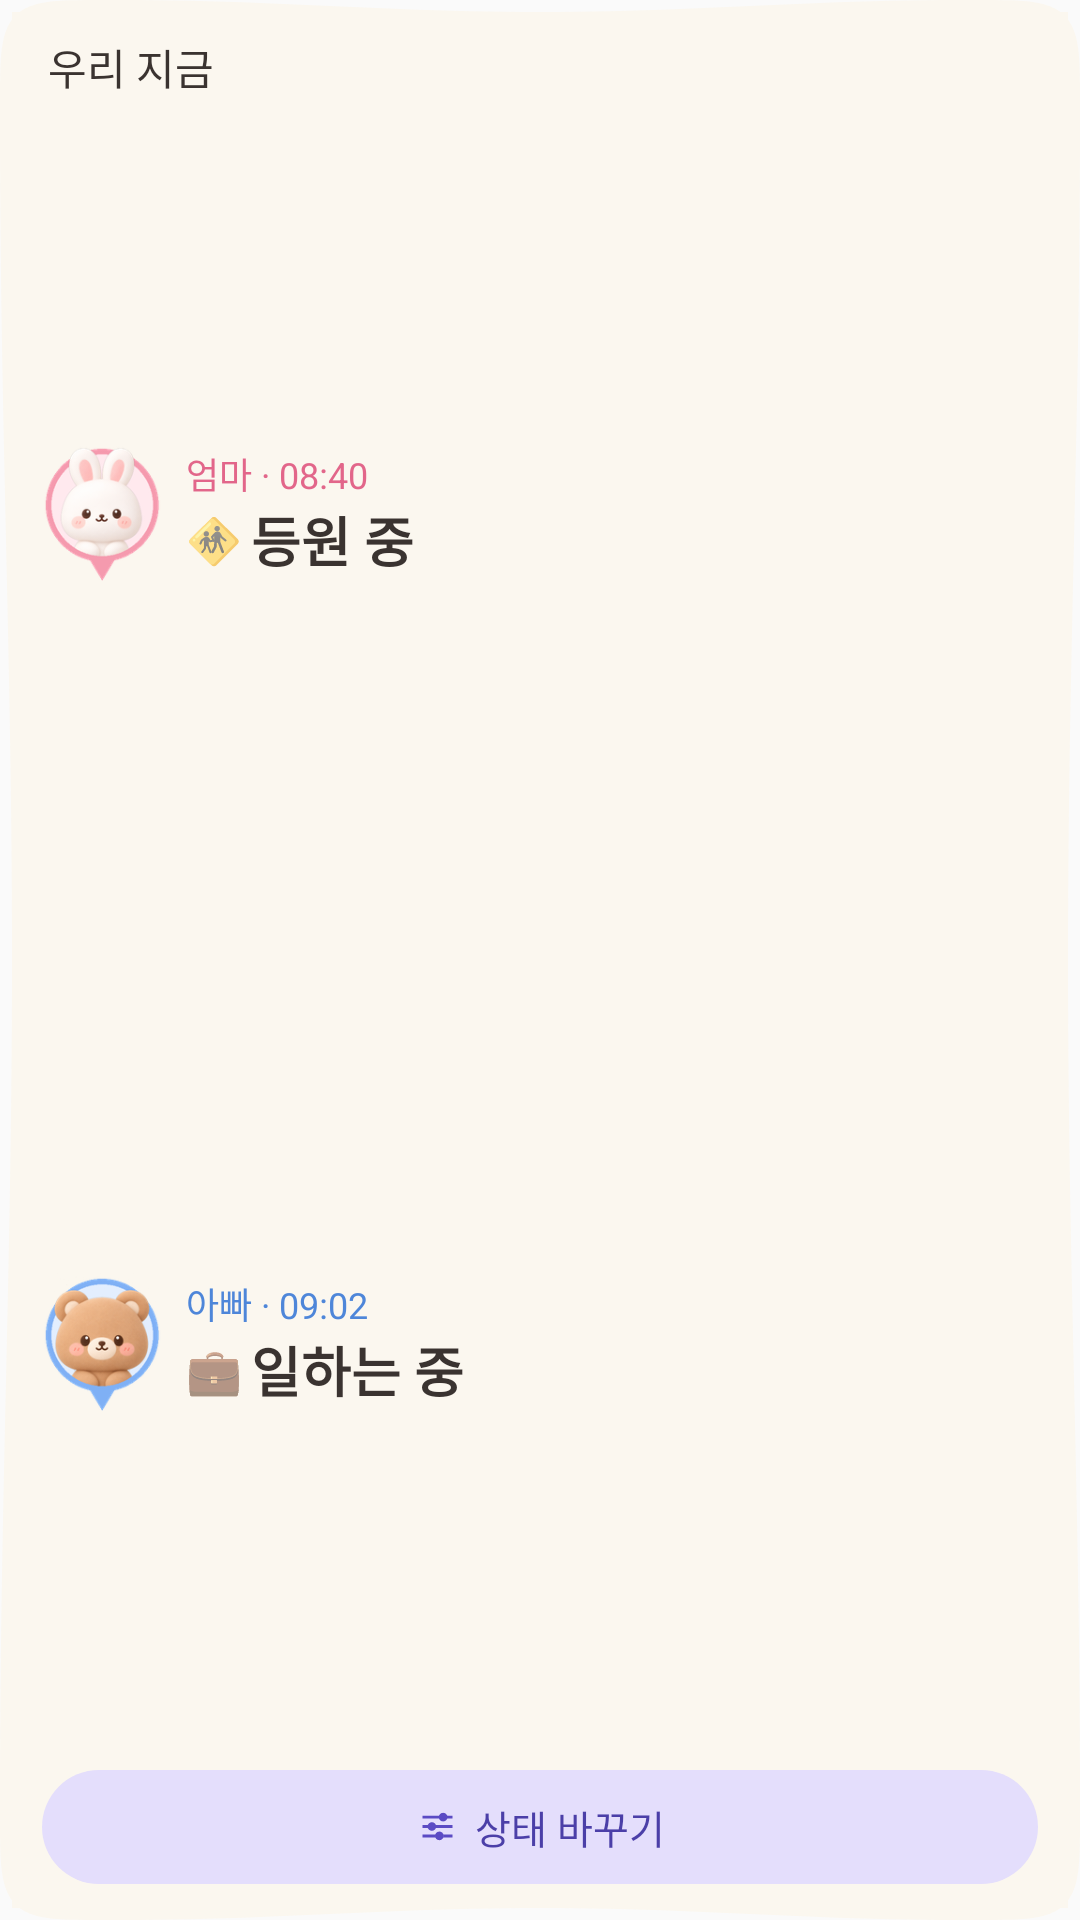

Named icons in this screenshot (1080 × 1920) and their centers, [x,y]:
widget sliders: [437,1827]
